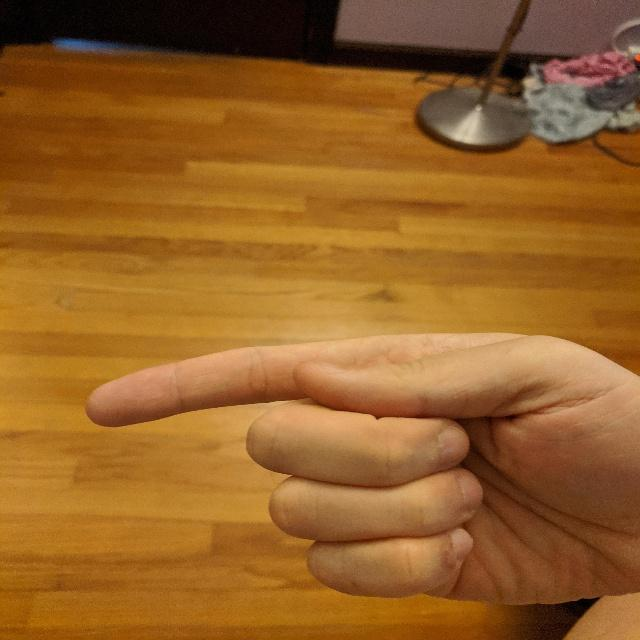G: (72, 318, 640, 603)
